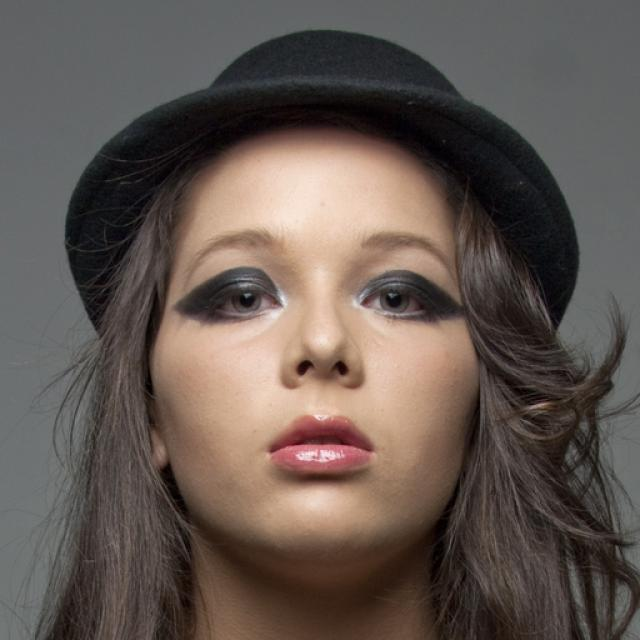neutral: (155, 126, 480, 546)
